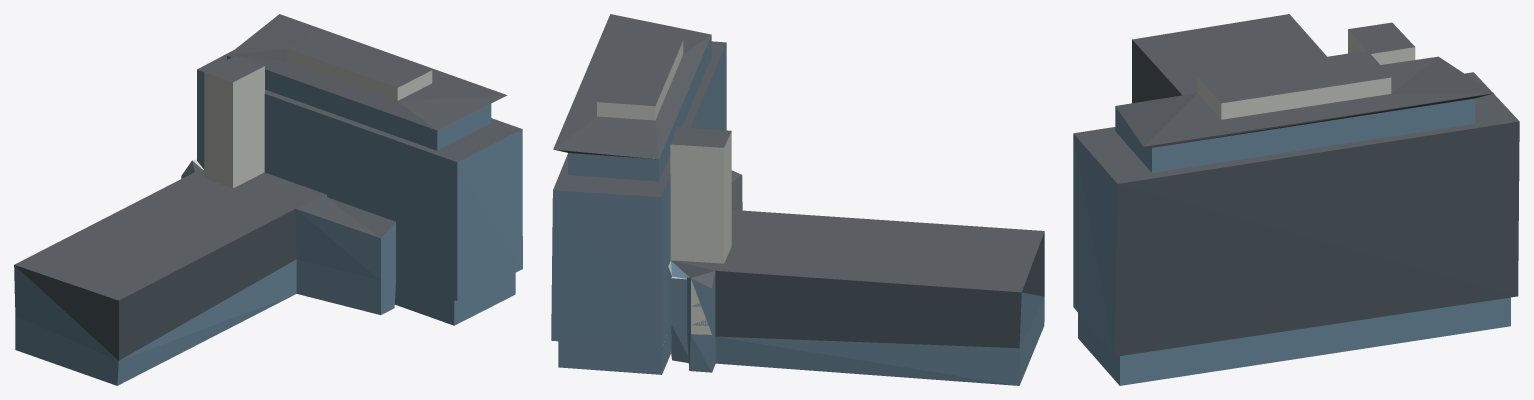
File: volkshotel.lod2.glb
3 renders of one model, left to right at view 1: azimuth 30°, elevation 25°; view 2: azimuth 150°, elevation 25°; view 3: azimuth 270°, elevation 25°, orthographic. The views are drawn at different scales.
Visible parts, largest first — view 1: lod2; view 2: lod2; view 3: lod2.
Boxes of the visible parts, x1,y1,x2,y2 form: lod2: [14, 14, 522, 385]; lod2: [551, 14, 1044, 385]; lod2: [1073, 14, 1519, 385].
Bounding box in the file's own units: 77.22 × 34.4 × 54.28.
